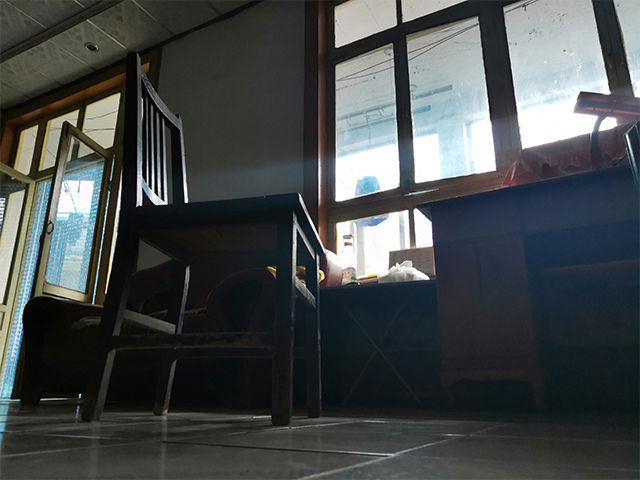cabinet: (412, 160, 640, 411)
sofa: (18, 241, 310, 409)
stool: (78, 47, 330, 428)
table: (315, 277, 437, 409)
